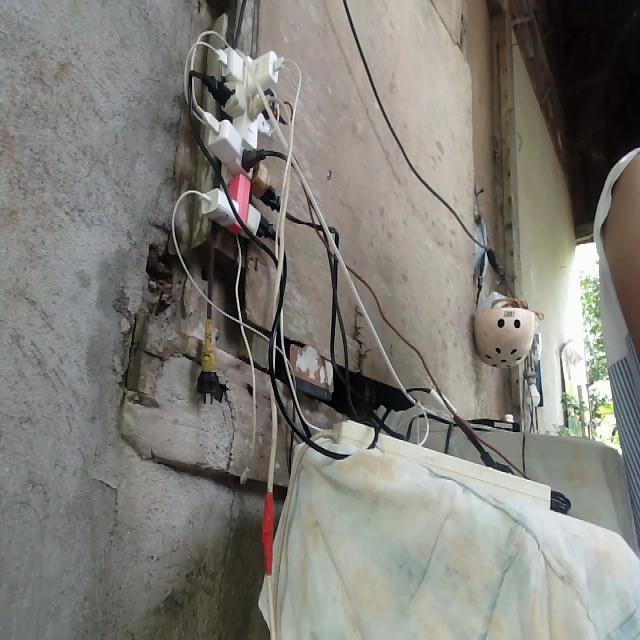-: (193, 38, 293, 242)
